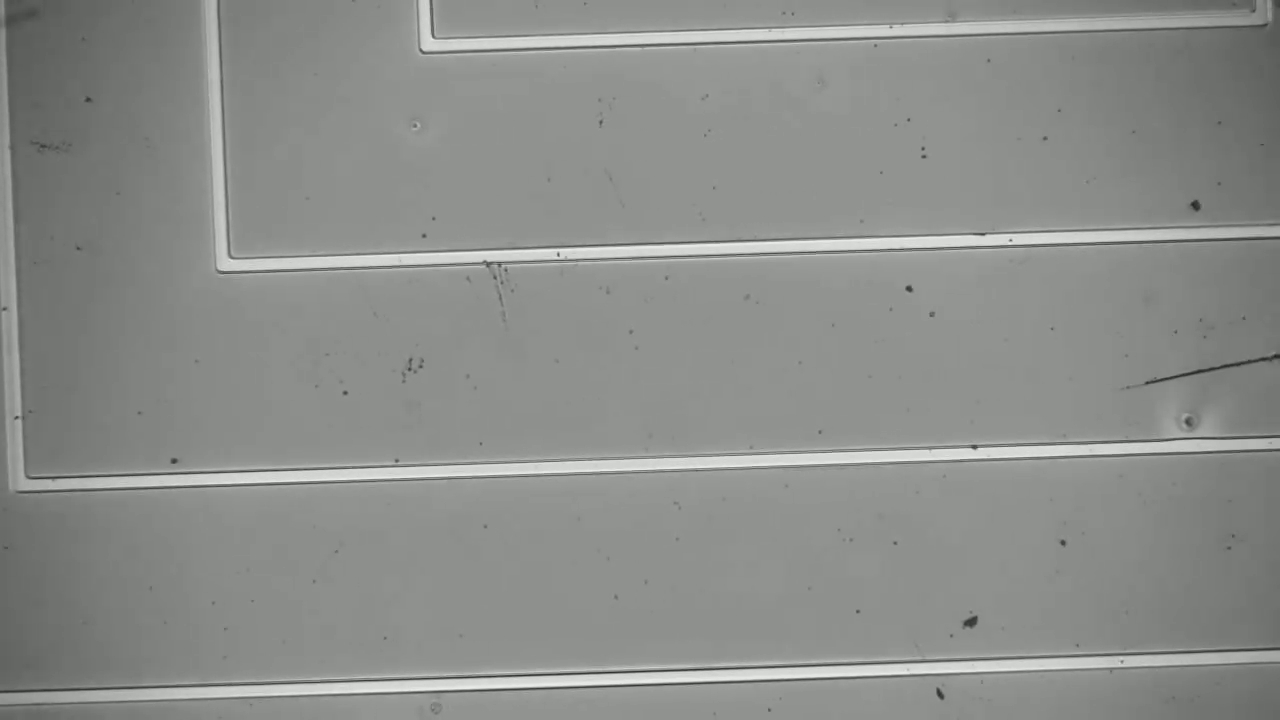scratch: (1105, 340, 1280, 400)
